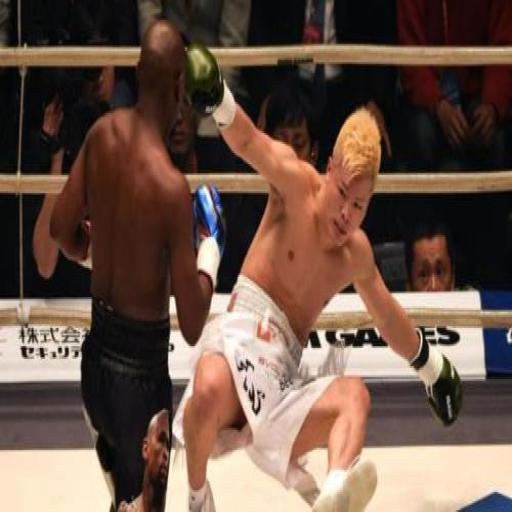boxing: (174, 38, 463, 510), (88, 23, 266, 472)
